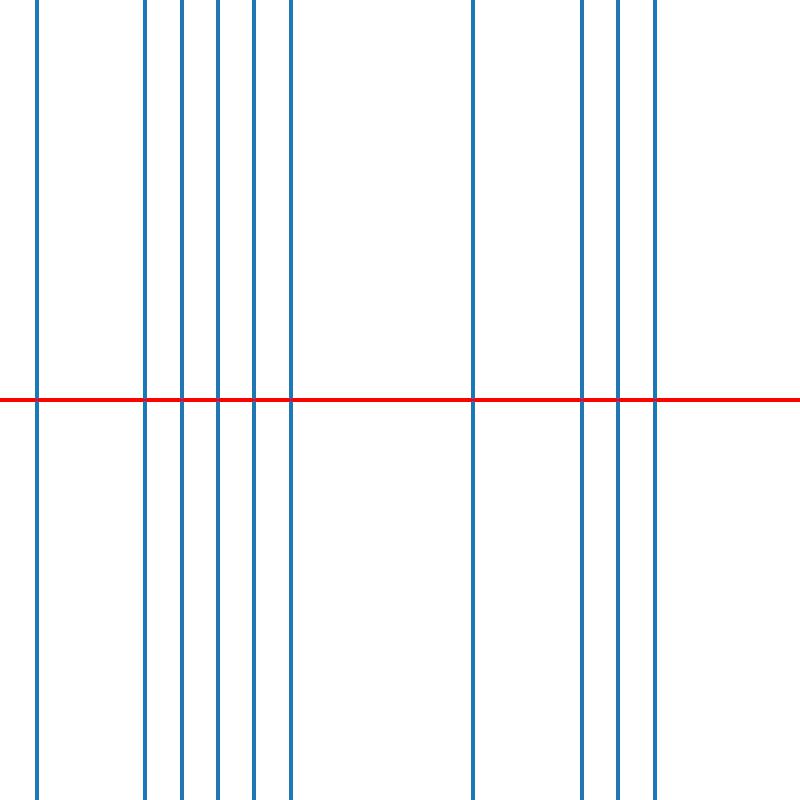root: (32, 396, 40, 404), (650, 396, 658, 404), (141, 396, 149, 404), (250, 396, 258, 404), (614, 396, 621, 404), (178, 396, 185, 404), (578, 396, 585, 404), (469, 396, 476, 404), (287, 396, 294, 404), (214, 396, 221, 404)
